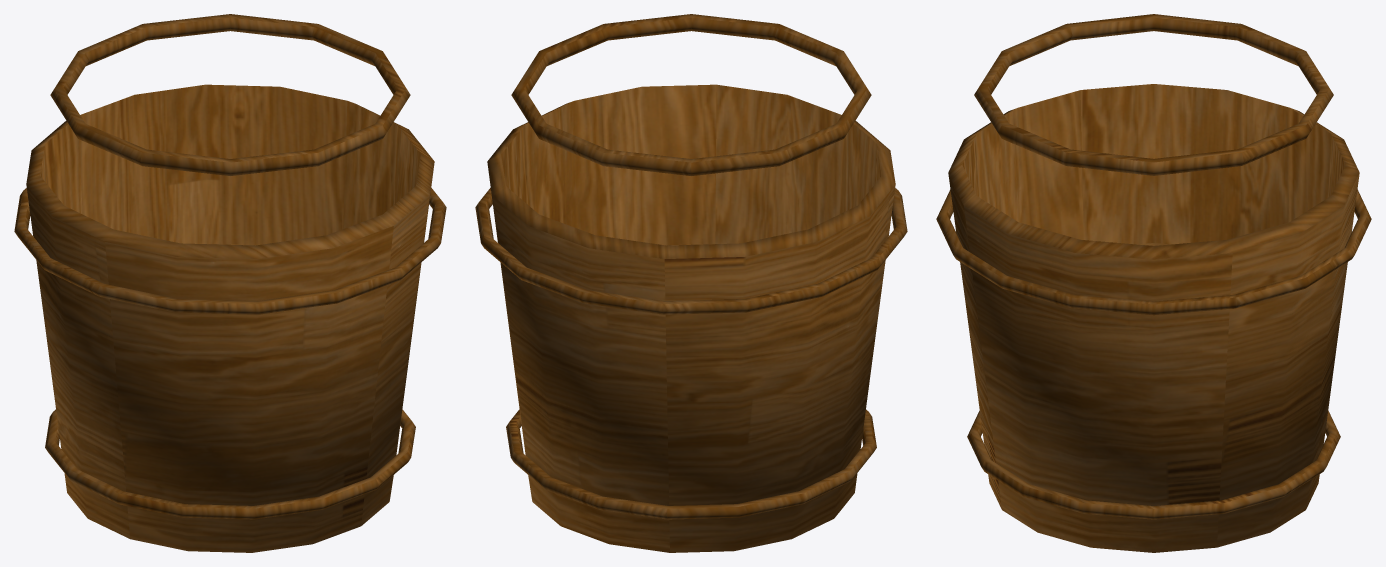
File: bucket.glb
3 renders of one model, left to right at view 1: azimuth 30°, elevation 25°; view 2: azimuth 150°, elevation 25°; view 3: azimuth 270°, elevation 25°, orthographic.
Visible parts, largest first — view 1: bucket; view 2: bucket; view 3: bucket.
Boxes of the visible parts, <box> form: bucket: <box>14,14,446,552</box>; bucket: <box>475,14,907,552</box>; bucket: <box>936,14,1371,552</box>.
Size of the model in its own units: 0.254 by 0.2543 by 0.254.
1 material, 1 textured.
